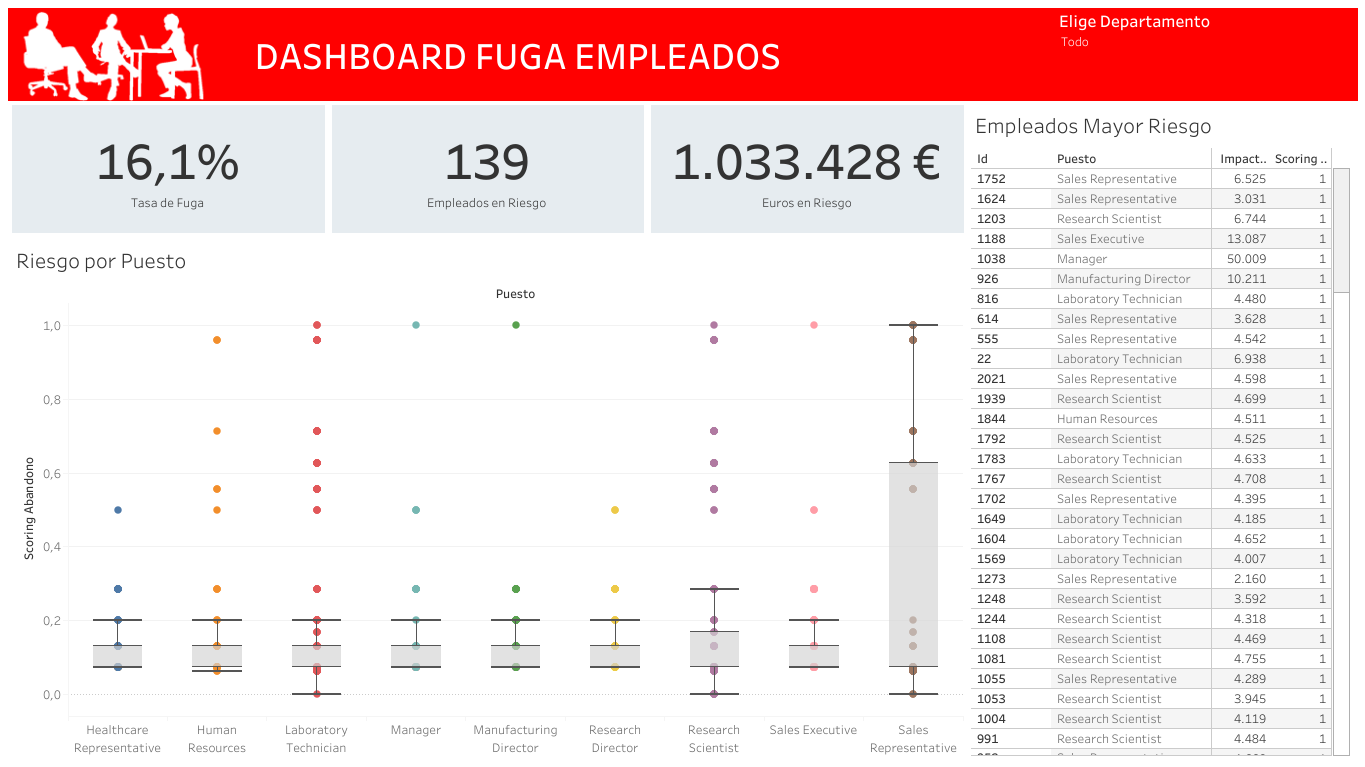

The dashboard page shown, as its layout file describes it:
{"tool":"tableau","page":{"name":"Dashboard 1","canvas":[1366,768],"ordinal":0},"visuals":[{"type":"image","param":"Image/logo_dashboard.png","box":[8,8,244,93]},{"type":"text","box":[252,8,807,93]},{"type":"filter","title":"KPI Tasa de Fuga","param":"[federated.1iqc1qq0jbijht13jcgsu1271scn].[none:departamento:nk]","box":[1059,8,299,93]},{"type":"worksheet","title":"KPI Tasa de Fuga","mark":"Automatic","box":[8,101,319.7,135]},{"type":"worksheet","title":"KPI Empleados en Riesgo","mark":"Automatic","box":[327.7,101,319.7,135]},{"type":"worksheet","title":"KPI Euros en Riesgo","mark":"Automatic","box":[647.3,101,319.7,135]},{"type":"worksheet","title":"Empleados Mayor Riesgo","mark":"Automatic","rows":["id","puesto"],"box":[967,101,391,659]},{"type":"worksheet","title":"Riesgo por Puesto","mark":"Circle","rows":["scoring_abandono"],"cols":["puesto"],"box":[8,236,959,524]}]}

Visuals, with their boxes in screenshot pixels (x1, y1, x2, y2), scaled from the page's 1366x768 canvas onto the 1365x767 screenshot:
image: <bbox>8, 8, 252, 101</bbox>
text: <bbox>252, 8, 1058, 101</bbox>
"KPI Tasa de Fuga" filter: <bbox>1058, 8, 1357, 101</bbox>
"KPI Tasa de Fuga" worksheet: <bbox>8, 101, 327, 236</bbox>
"KPI Empleados en Riesgo" worksheet: <bbox>327, 101, 647, 236</bbox>
"KPI Euros en Riesgo" worksheet: <bbox>647, 101, 966, 236</bbox>
"Empleados Mayor Riesgo" worksheet: <bbox>966, 101, 1357, 759</bbox>
"Riesgo por Puesto" worksheet (Circle marks): <bbox>8, 236, 966, 759</bbox>
